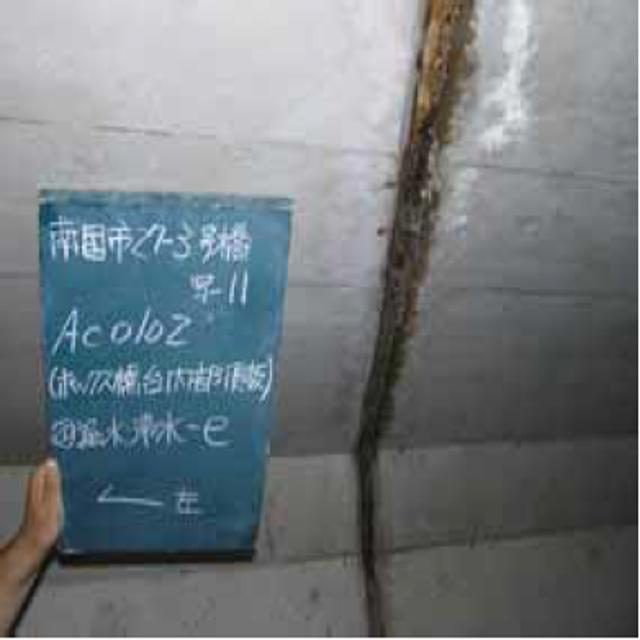leakage: (351, 0, 482, 634)
